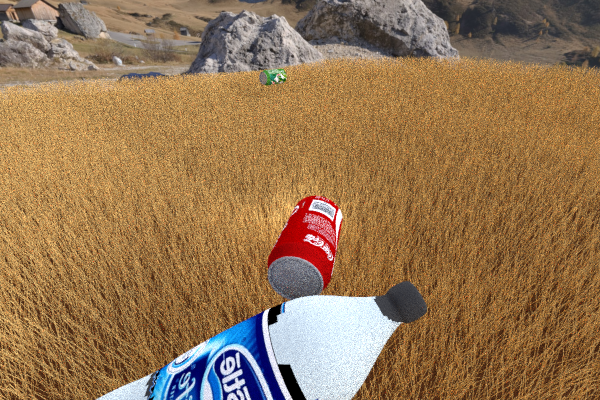Plastic Bottle: (0, 281, 427, 400), (267, 195, 342, 302), (259, 68, 286, 85)
